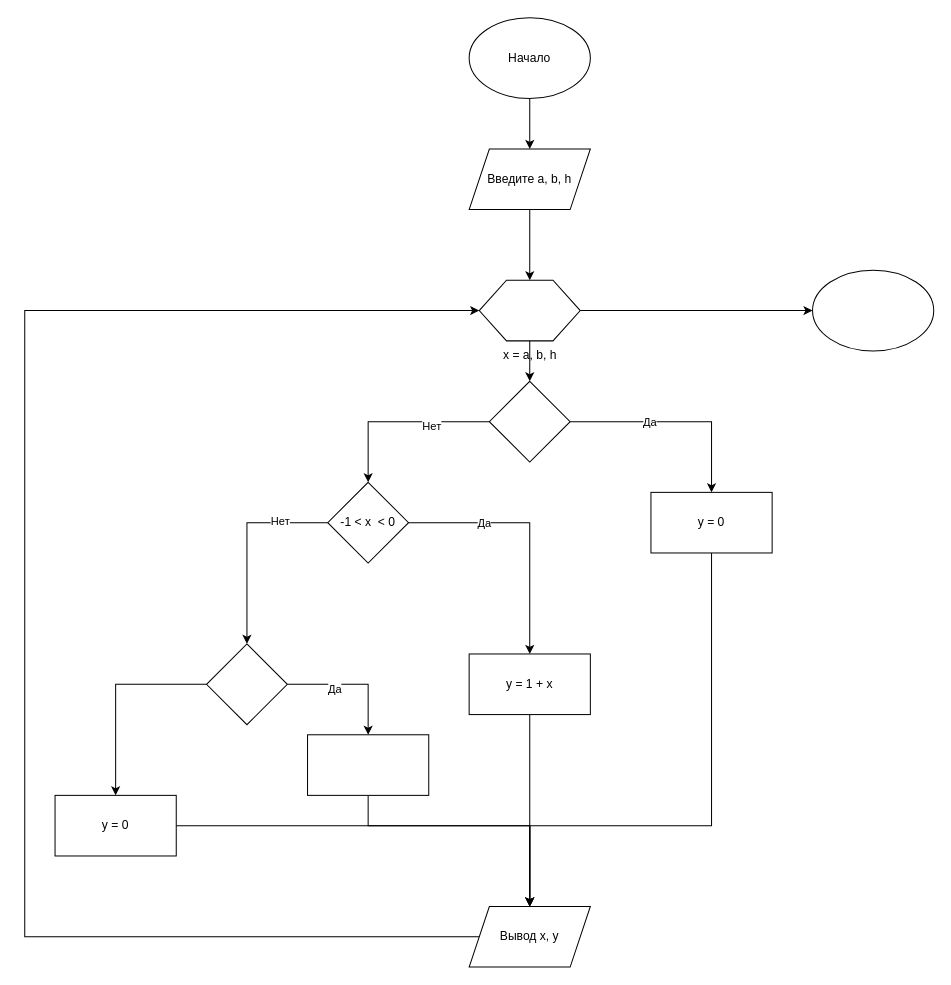
Image size: 951x985. Some labels were removed from this diagram. Here are the shapes that lost their labels. From the top down, the centre of each, then its label:
At (873,310): "Конец".
At (529,421): "x <= -1".
At (246,684): "x >= 1".
At (368,764): "y = cos(PI * (x/2))".
